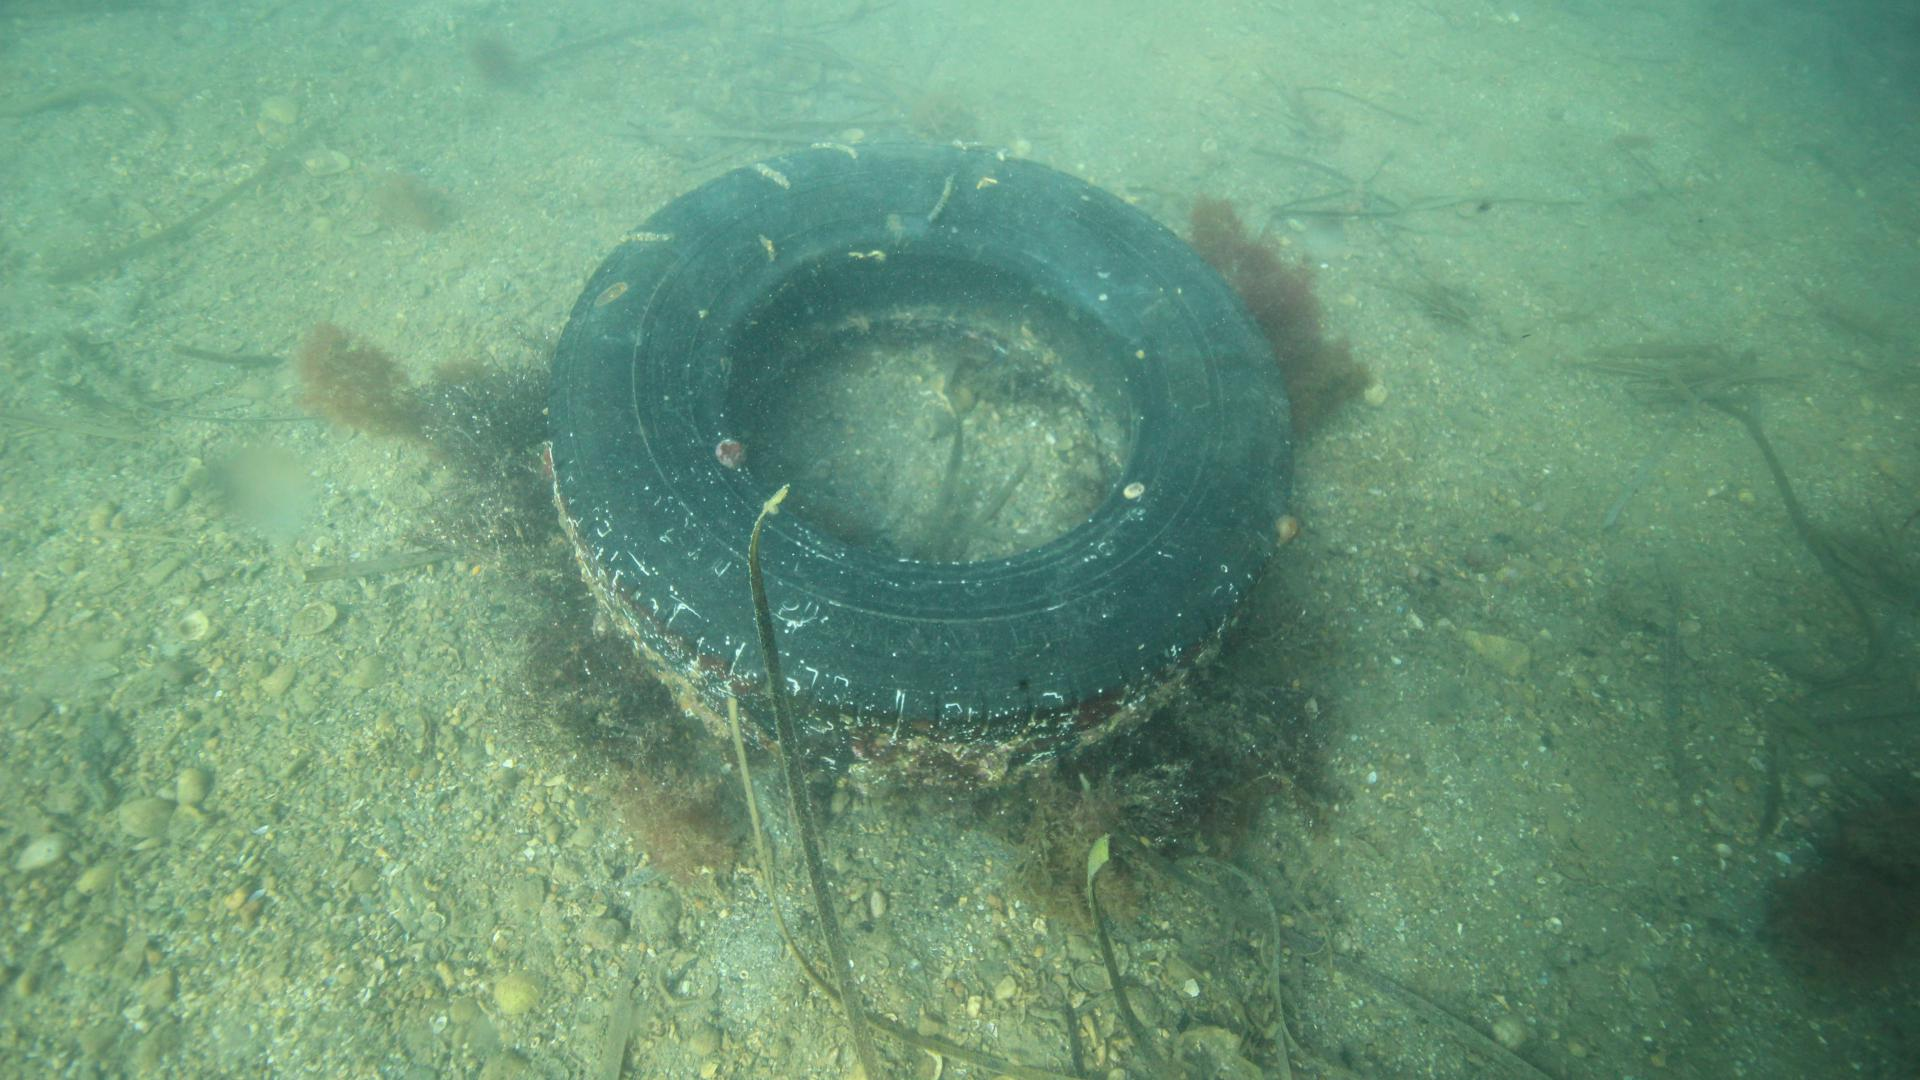tire: (550, 132, 1292, 807)
